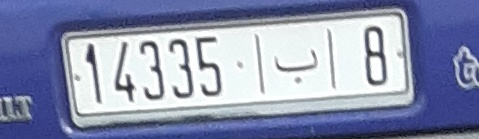1: (76, 42, 107, 106)
3: (137, 35, 166, 103), (166, 33, 194, 101)
4: (112, 39, 139, 106)
5: (194, 31, 225, 101)
8: (359, 22, 391, 88)
b: (270, 45, 324, 91)
